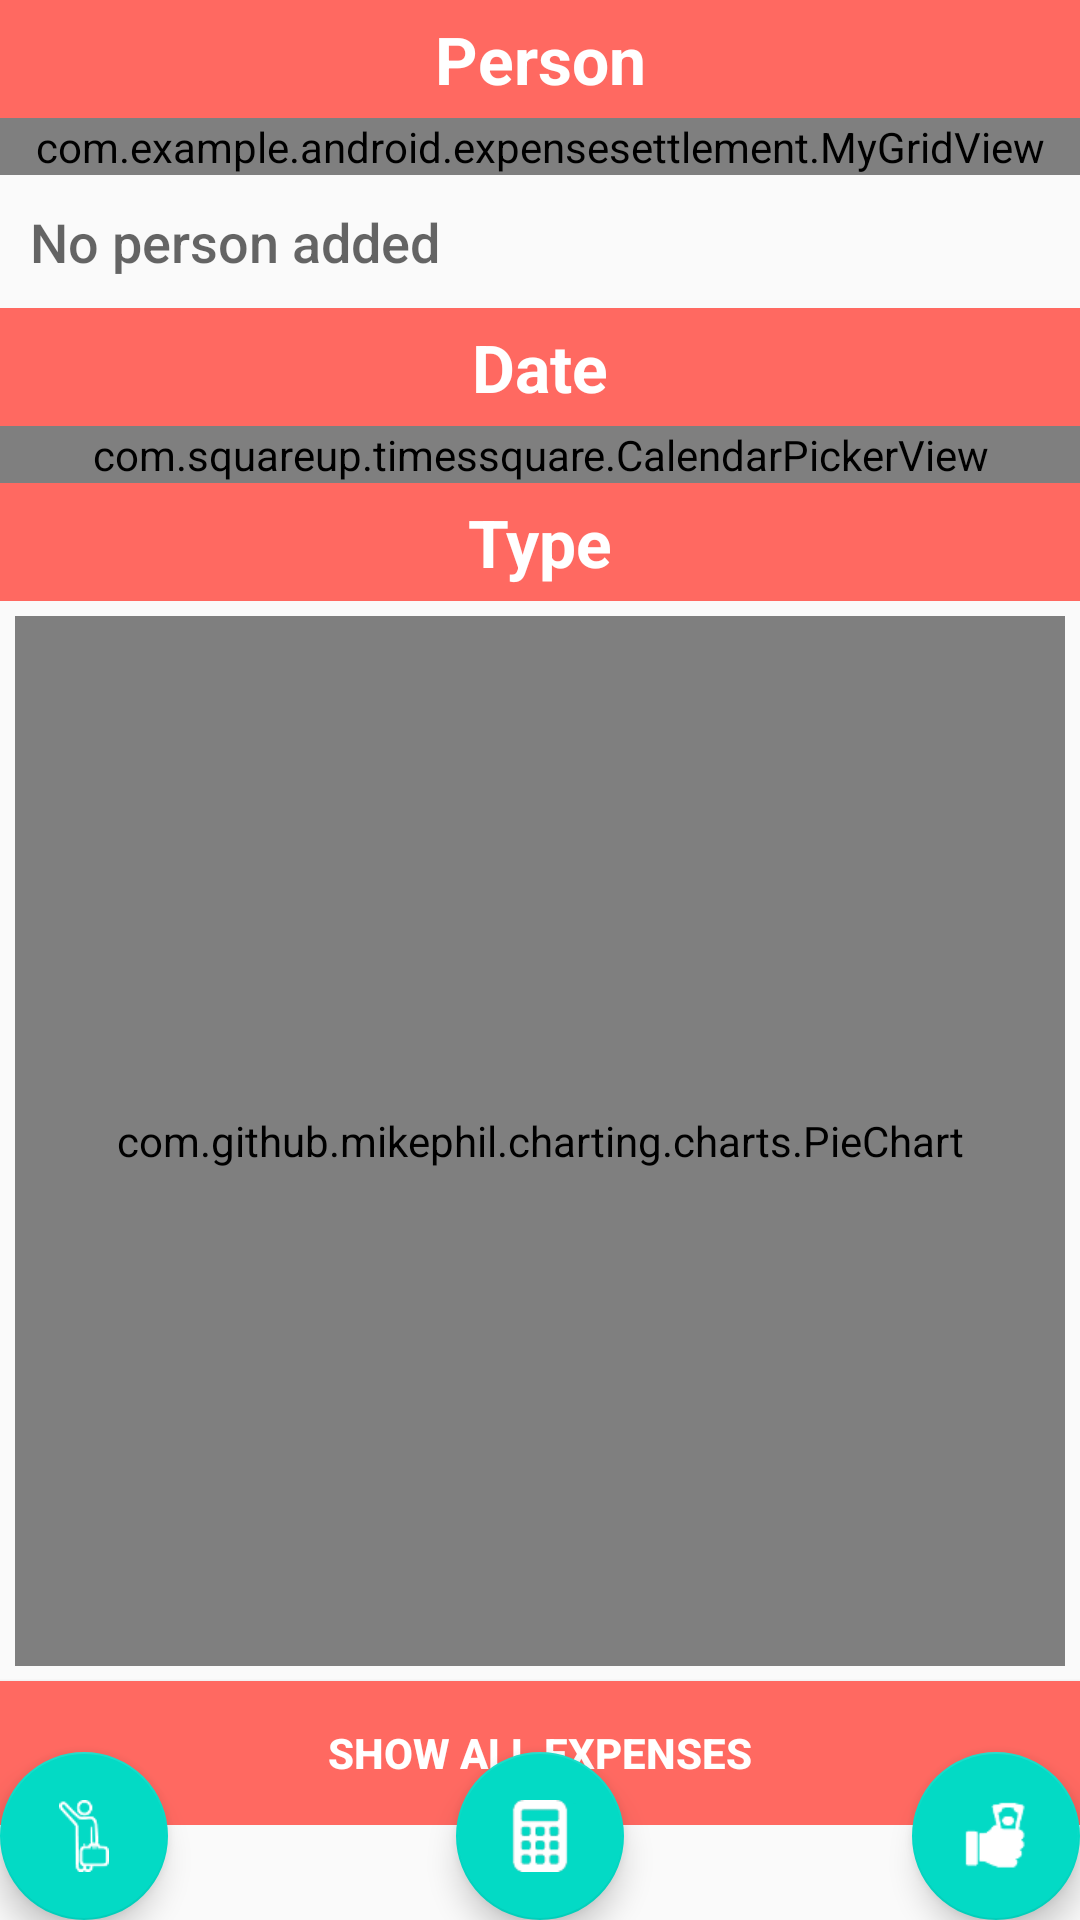

Where to tap for icons on this 1080px×1920px app screen, as (x,y):
calculation: (540,1836)
cost: (996,1836)
